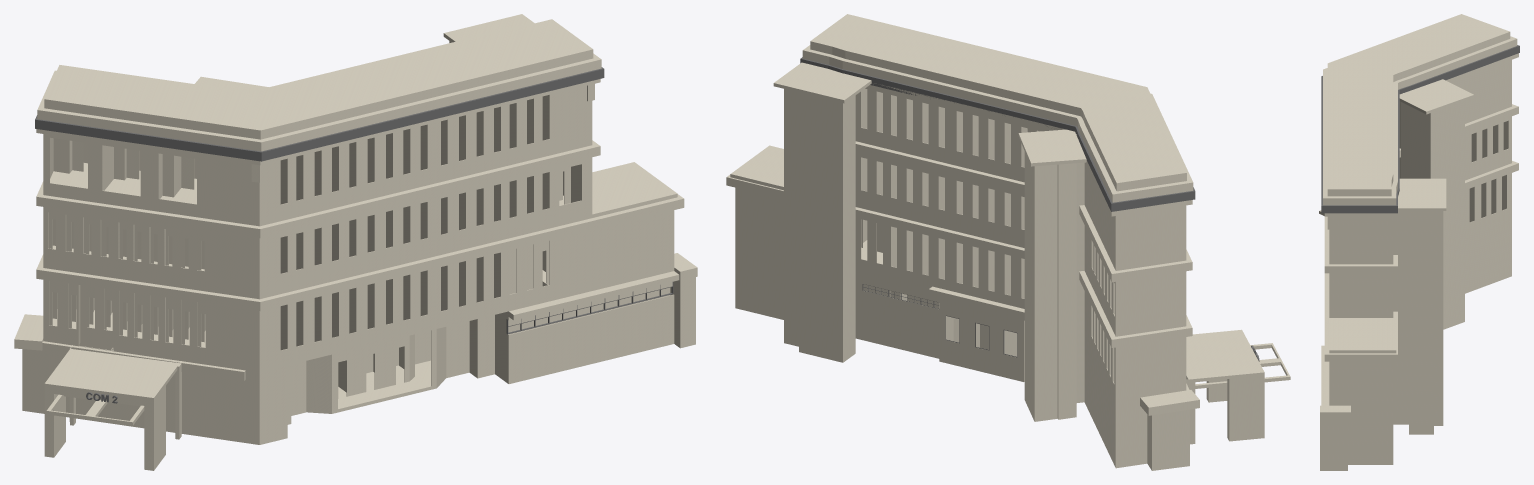
The model's file is com2-rhino.gltf.
The picture shows the model from 3 angles, left to right: view 1: azimuth 30°, elevation 25°; view 2: azimuth 150°, elevation 25°; view 3: azimuth 270°, elevation 25°; orthographic projection. The views are drawn at different scales.
Parts seen in each view (by area): view 1: Z_UP, Brep (×2), Extrusion (×4); view 2: Z_UP, Brep (×2), Extrusion (×4); view 3: Z_UP, Brep, Extrusion (×4).
Boxes of the visible parts, x1,y1,x2,y2 form: Z_UP: (14, 19, 697, 470); Brep (×2): (36, 41, 600, 425); Extrusion (×4): (35, 14, 677, 334); Z_UP: (726, 14, 1264, 470); Brep (×2): (784, 83, 1290, 388); Extrusion (×4): (730, 57, 1195, 211); Z_UP: (1320, 14, 1518, 470); Brep: (1324, 53, 1518, 264); Extrusion (×4): (1321, 45, 1519, 353).
Size of what is drawn, in the model's own units: 355 by 173 by 129.
Materials: 2 (1 with a texture image).
